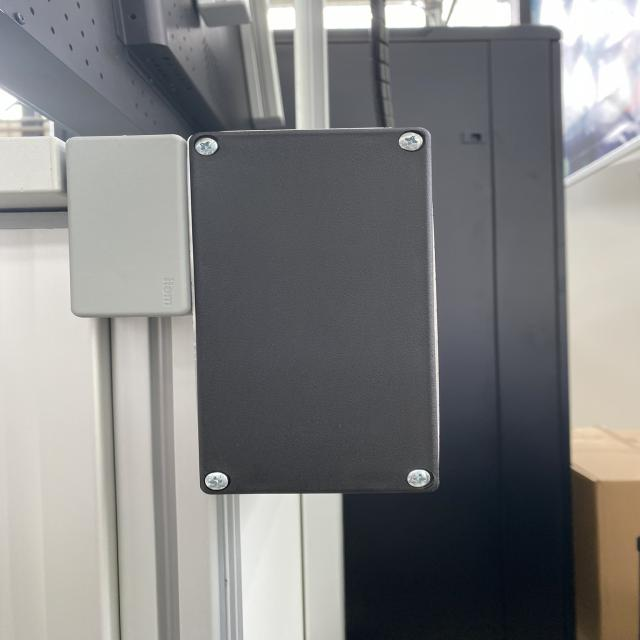PhillipsScrewHead: (407, 468, 432, 488), (203, 472, 229, 491), (398, 132, 424, 150), (195, 138, 218, 156)
